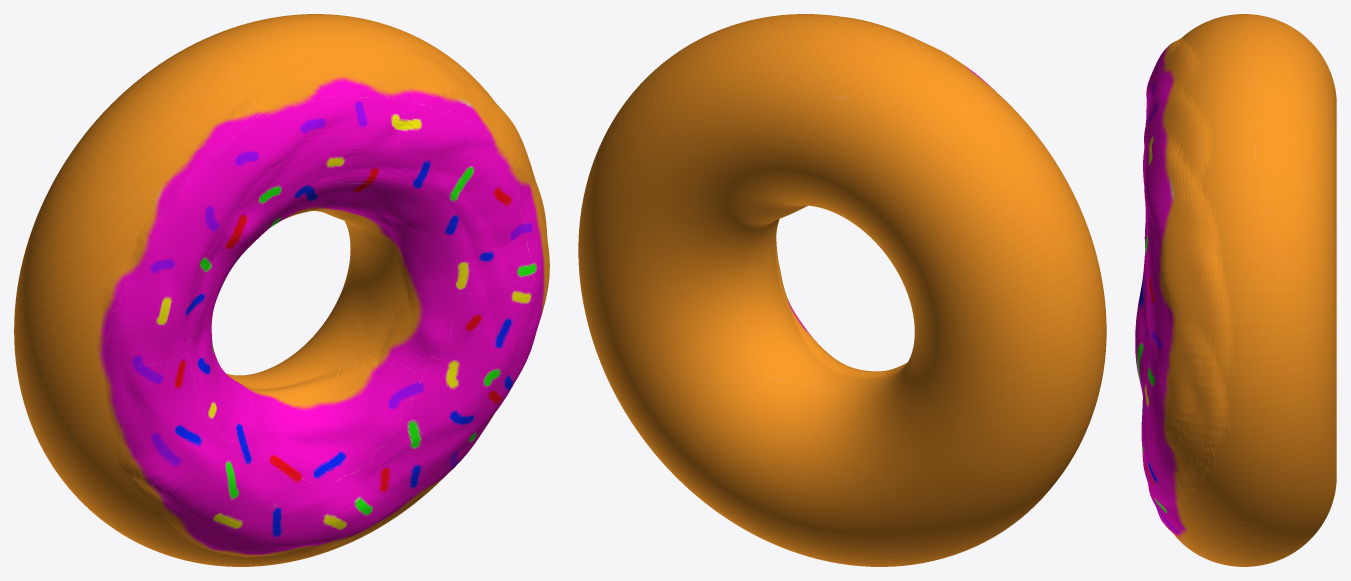
The model's file is donut.obj.
The picture shows the model from 3 angles, left to right: view 1: azimuth 30°, elevation 25°; view 2: azimuth 150°, elevation 25°; view 3: azimuth 270°, elevation 25°; orthographic projection. The views are drawn at different scales.
Parts seen in each view (by area): view 1: Object.1; view 2: Object.1; view 3: Object.1.
Part boxes in pixels (bbox=[...]): Object.1: bbox=[14, 14, 549, 566]; Object.1: bbox=[578, 14, 1106, 566]; Object.1: bbox=[1135, 14, 1336, 566].
Size of the model in its own units: 25.4 by 25.4 by 9.26.
Materials: 1 (1 with a texture image).
